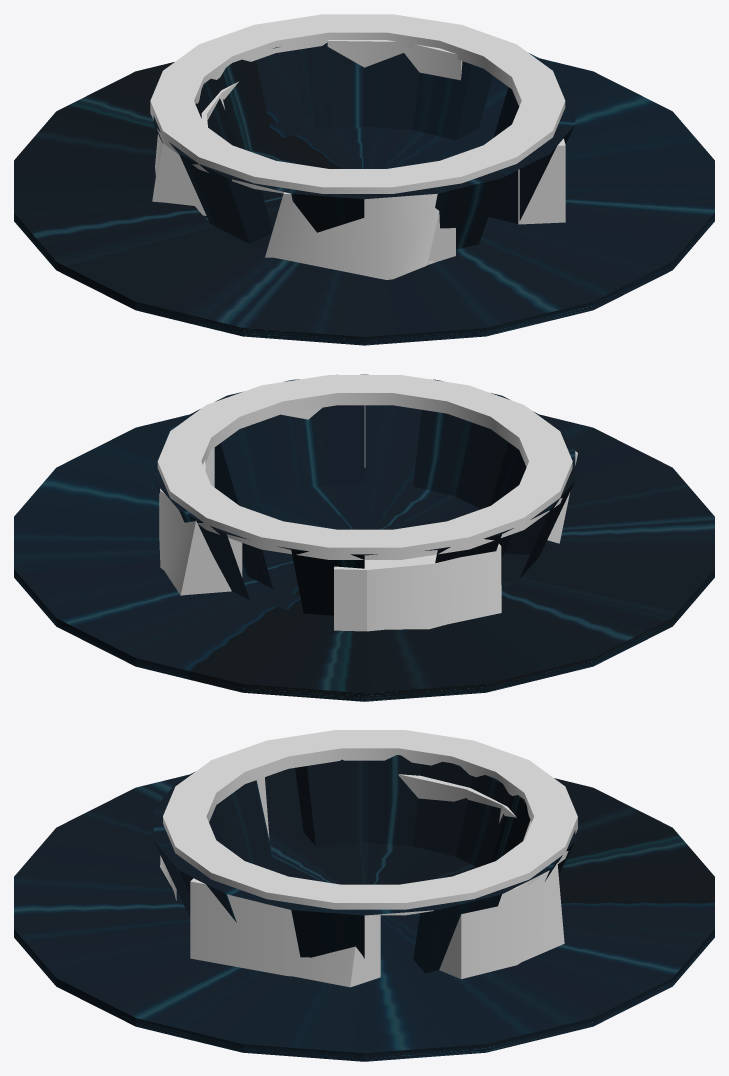
Rendered from Arena Double Sided.FBX.
3 views of the same model, one above another, from view 1: azimuth 30°, elevation 25°; view 2: azimuth 150°, elevation 25°; view 3: azimuth 270°, elevation 25° (orthographic).
Parts seen in each view (by area): view 1: Middle Floor, Tube001, Arena Fill In002, Arena Fill In, Arena Fill In003, Arena Fill In001; view 2: Middle Floor, Tube001, Arena Fill In003, Arena Fill In, Arena Fill In001; view 3: Middle Floor, Tube001, Arena Fill In001, Arena Fill In, Arena Fill In003.
Part boxes in pixels (x1=…): Middle Floor: x1=14, y1=42, x2=714, y2=345; Tube001: x1=150, y1=14, x2=565, y2=193; Arena Fill In002: x1=265, y1=192, x2=455, y2=279; Arena Fill In: x1=327, y1=40, x2=462, y2=80; Arena Fill In003: x1=152, y1=81, x2=238, y2=215; Arena Fill In001: x1=518, y1=138, x2=565, y2=224; Middle Floor: x1=14, y1=374, x2=714, y2=701; Tube001: x1=157, y1=375, x2=572, y2=559; Arena Fill In003: x1=334, y1=544, x2=501, y2=631; Arena Fill In: x1=159, y1=460, x2=242, y2=595; Arena Fill In001: x1=205, y1=374, x2=365, y2=487; Middle Floor: x1=14, y1=755, x2=714, y2=1061; Tube001: x1=163, y1=730, x2=577, y2=915; Arena Fill In001: x1=190, y1=878, x2=380, y2=987; Arena Fill In: x1=439, y1=863, x2=564, y2=979; Arena Fill In003: x1=398, y1=774, x2=531, y2=840.
Size of the model in its own units: 2719 by 459 by 2678.
Materials: 1 (1 with a texture image).
